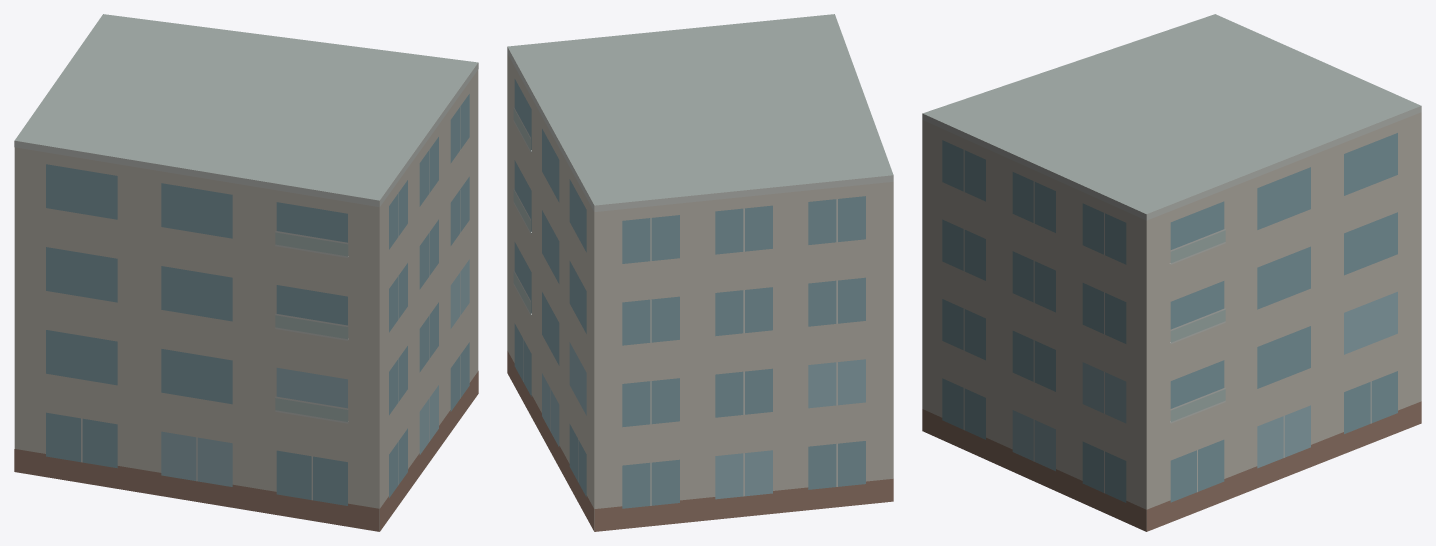
Rendered from residential-a2be5ae4-1587-4270-a538-3251d2ccd98d.glb.
The picture shows the model from 3 angles, left to right: view 1: azimuth 30°, elevation 25°; view 2: azimuth 150°, elevation 25°; view 3: azimuth 270°, elevation 25°; orthographic projection. The views are drawn at different scales.
Parts seen in each view (by area): view 1: residential-a2be5ae4-1587-4270-a538-3251d2ccd98d.tmp; view 2: residential-a2be5ae4-1587-4270-a538-3251d2ccd98d.tmp; view 3: residential-a2be5ae4-1587-4270-a538-3251d2ccd98d.tmp.
Part boxes in pixels (bbox=[...]): residential-a2be5ae4-1587-4270-a538-3251d2ccd98d.tmp: bbox=[14, 14, 478, 531]; residential-a2be5ae4-1587-4270-a538-3251d2ccd98d.tmp: bbox=[507, 14, 893, 531]; residential-a2be5ae4-1587-4270-a538-3251d2ccd98d.tmp: bbox=[922, 14, 1421, 531].
Bounding box in the file's own units: 16.51 × 12.2 × 17.39.
